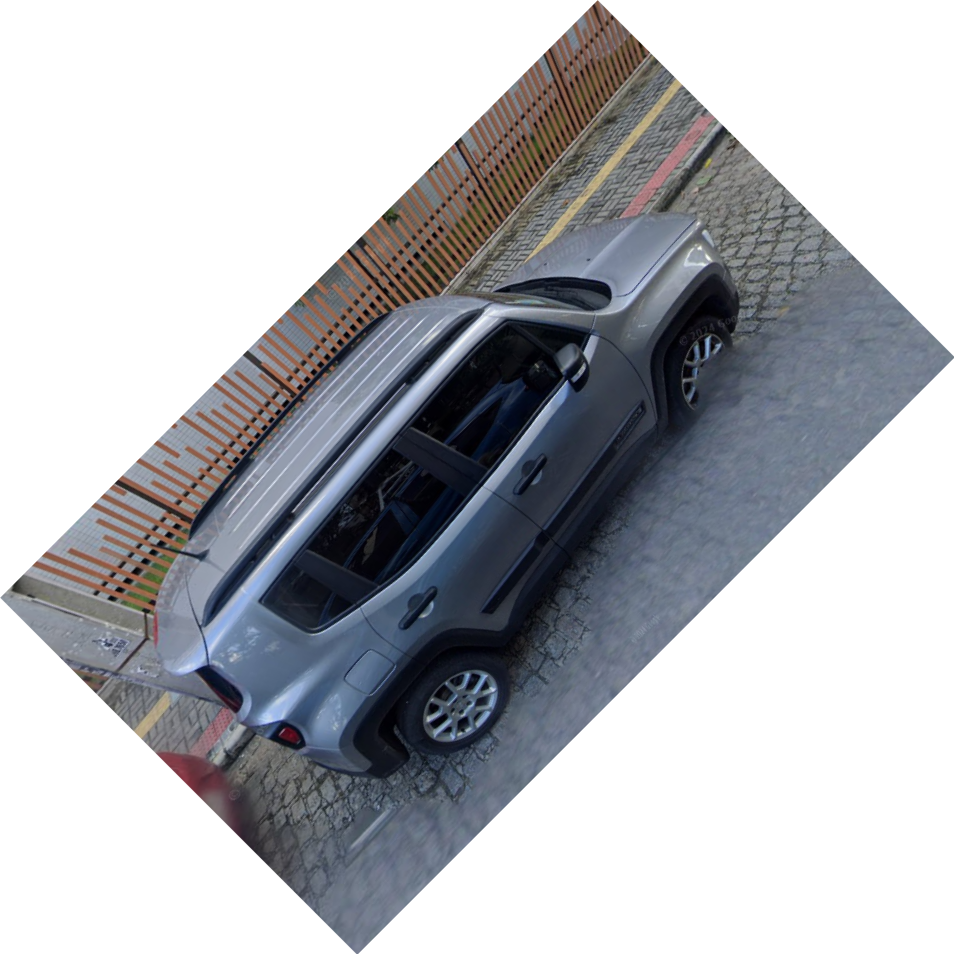car: (141, 207, 743, 778)
